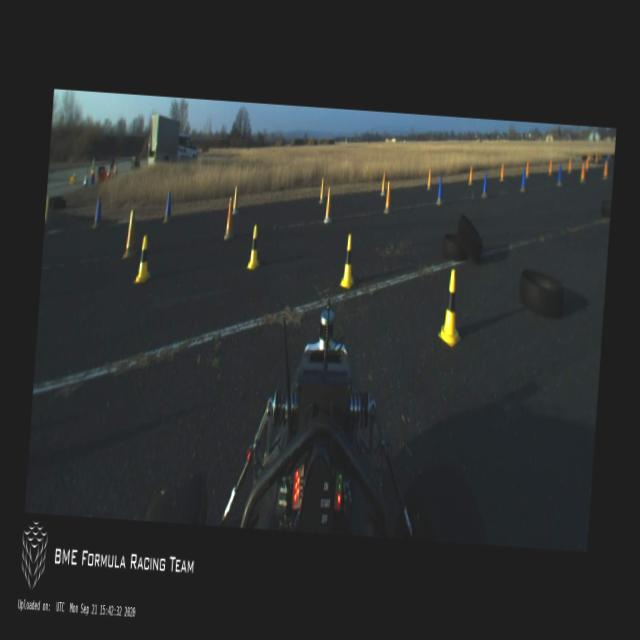yellow_cone: (437, 268, 465, 348), (338, 234, 358, 288), (133, 233, 153, 284), (246, 223, 262, 270)
